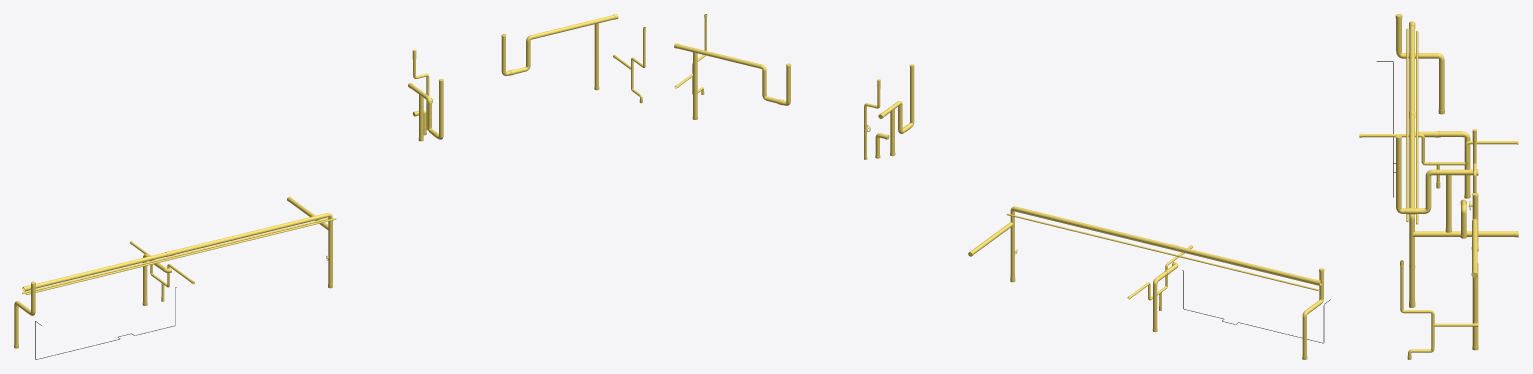
The model's file is canos cena 1.fbx.
The picture shows the model from 3 angles, left to right: view 1: azimuth 30°, elevation 25°; view 2: azimuth 150°, elevation 25°; view 3: azimuth 270°, elevation 25°; orthographic projection. The views are drawn at different scales.
Parts seen in each view (by area): view 1: polySurface1601, pCylinder50, pCylinder17, polySurface1592, polySurface1593; view 2: polySurface1601, pCylinder50, pCylinder17, polySurface1593; view 3: polySurface1601, pCylinder17, pCylinder50, pCylinder44, pCylinder43, pCylinder47, pCylinder45, polySurface1593, polySurface1592, polySurface1600, polySurface1605, pCylinder54 (+1 smaller).
Boxes of the visible parts, left/top/right/bottom form: polySurface1601: left=22, top=213, right=332, bottom=291; pCylinder50: left=501, top=14, right=618, bottom=90; pCylinder17: left=408, top=78, right=443, bottom=141; polySurface1592: left=26, top=218, right=336, bottom=294; polySurface1593: left=22, top=218, right=328, bottom=294; polySurface1601: left=1010, top=206, right=1322, bottom=285; pCylinder50: left=674, top=43, right=791, bottom=119; pCylinder17: left=878, top=64, right=914, bottom=156; polySurface1593: left=1006, top=213, right=1318, bottom=290; polySurface1601: left=1409, top=21, right=1415, bottom=307; pCylinder17: left=1395, top=135, right=1478, bottom=232; pCylinder50: left=1471, top=192, right=1478, bottom=350; pCylinder44: left=1359, top=133, right=1518, bottom=188; pCylinder43: left=1395, top=14, right=1444, bottom=114; pCylinder47: left=1400, top=260, right=1477, bottom=359; pCylinder45: left=1415, top=131, right=1470, bottom=198; polySurface1593: left=1416, top=31, right=1418, bottom=224; polySurface1592: left=1406, top=28, right=1408, bottom=222; polySurface1600: left=1413, top=231, right=1518, bottom=237; polySurface1605: left=1468, top=129, right=1476, bottom=210; pCylinder54: left=1460, top=199, right=1466, bottom=238.
Size of the model in its own units: 108 by 32.07 by 18.98.
